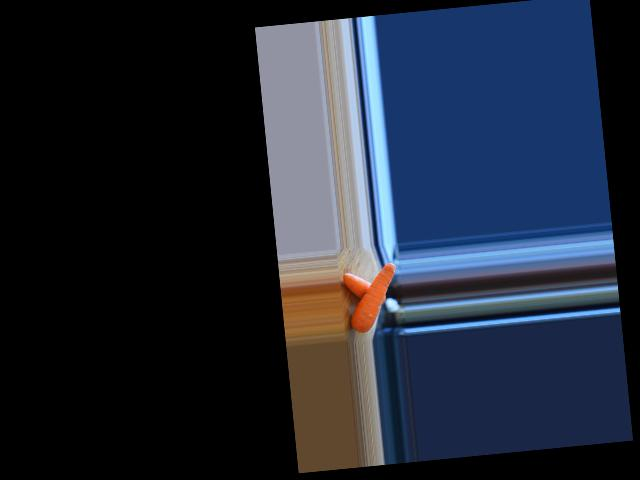carrot: (342, 271, 386, 309)
